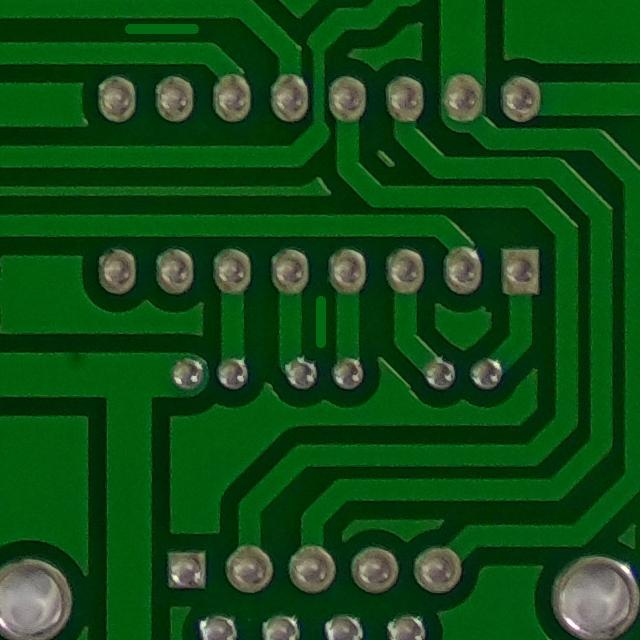spurious_copper: (299, 286, 341, 354)
